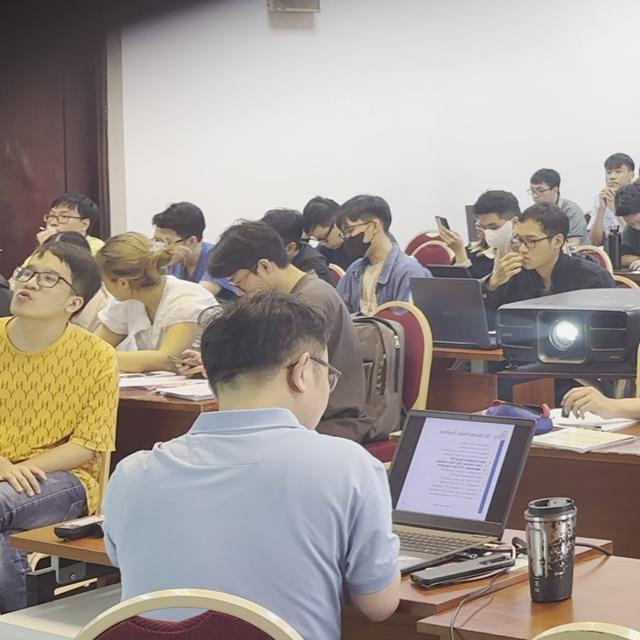Looking away: (91, 229, 180, 315), (211, 221, 288, 305), (509, 200, 575, 273), (337, 195, 400, 268), (293, 180, 345, 258), (471, 180, 518, 265), (522, 159, 568, 211)
Looking forward: (12, 258, 61, 319), (40, 204, 77, 236), (599, 160, 628, 187)
Phone use: (614, 184, 640, 288)
